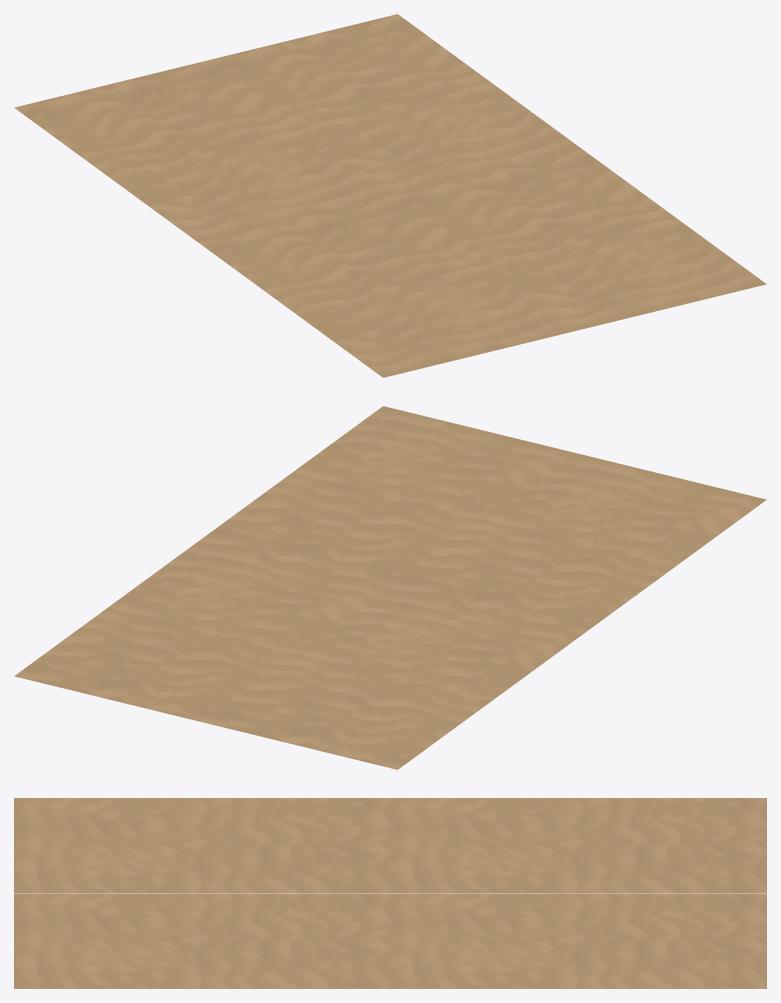
The model's file is Level2_23.glb.
3 views of the same model, one above another, from view 1: azimuth 30°, elevation 25°; view 2: azimuth 150°, elevation 25°; view 3: azimuth 270°, elevation 25° (orthographic).
Visible parts, largest first — view 1: Level2_23; view 2: Level2_23; view 3: Level2_23.
Part boxes in pixels (x1,y1,x2,y2): Level2_23: (14,14,766,377); Level2_23: (14,406,766,769); Level2_23: (14,798,766,988).
Size of the model in its own units: 30 by 0 by 50.
1 material, 1 textured.
